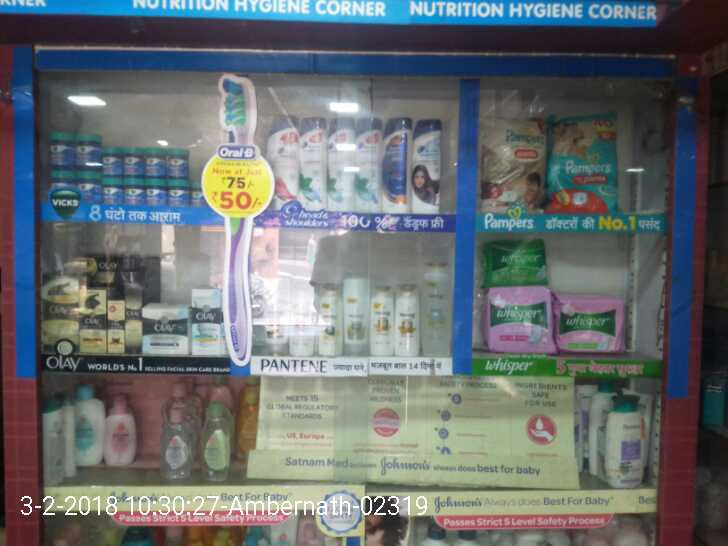vicks: (51, 128, 202, 199)
